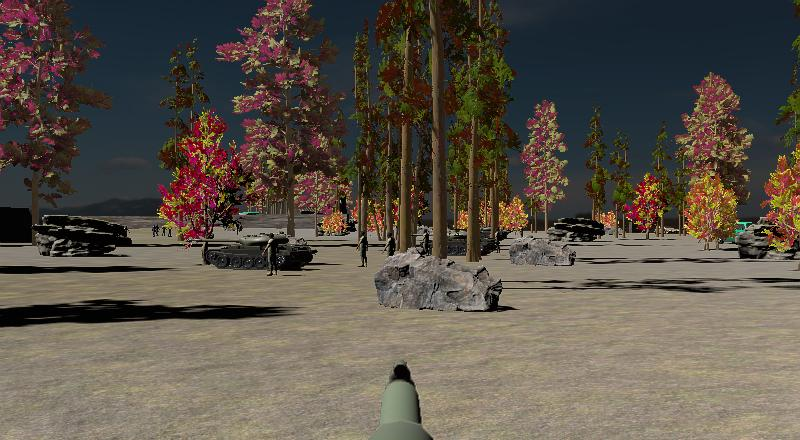Human: (262, 230, 281, 278), (356, 227, 369, 269)
Tank: (182, 230, 320, 272), (444, 227, 502, 257)
